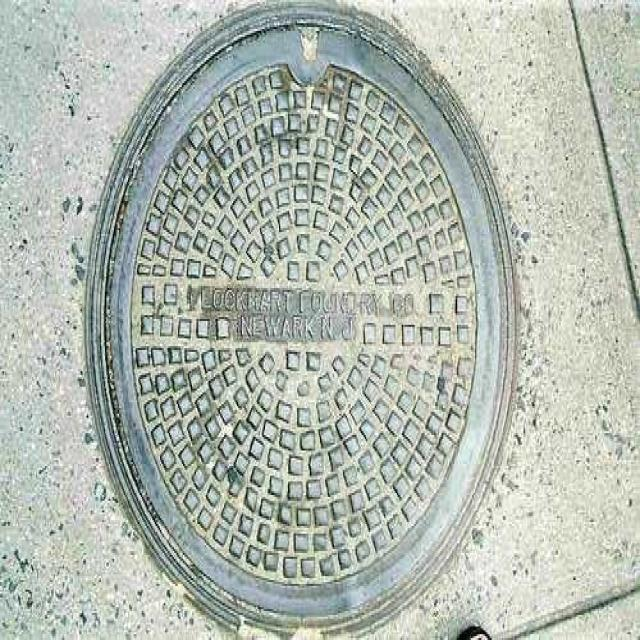manhole: (79, 6, 521, 640)
